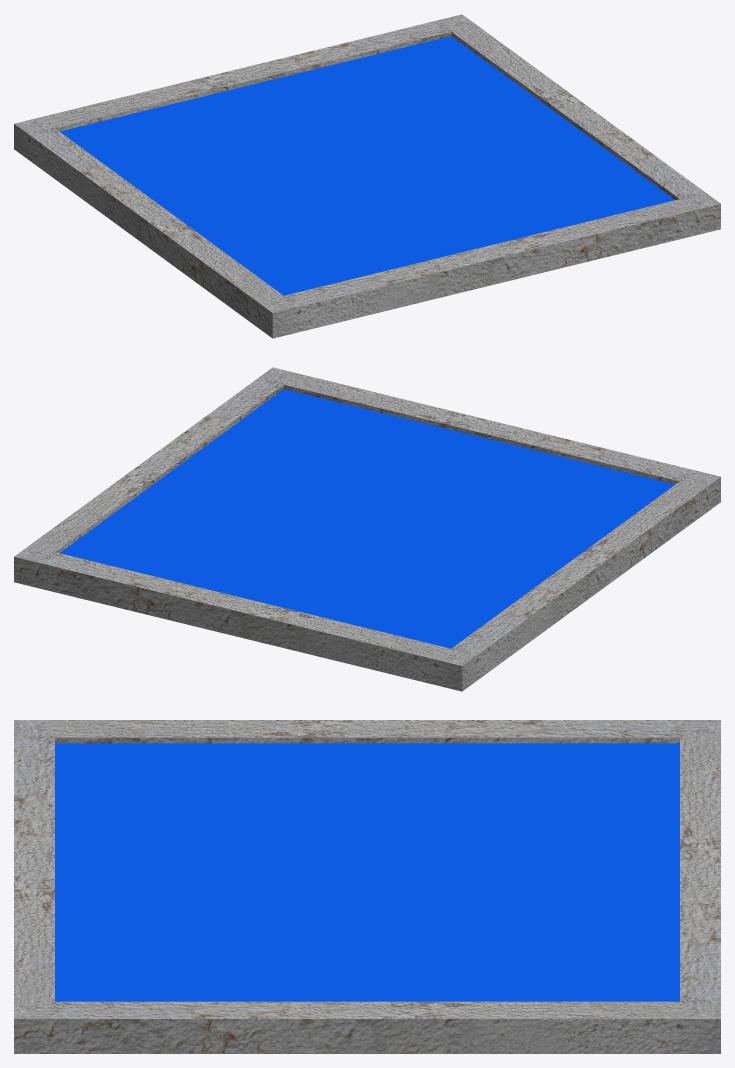
Rendered from Window.fbx.
The picture shows the model from 3 angles, top to bottom: view 1: azimuth 30°, elevation 25°; view 2: azimuth 150°, elevation 25°; view 3: azimuth 270°, elevation 25°; orthographic projection. The views are drawn at different scales.
Visible parts, largest first — view 1: Window; view 2: Window; view 3: Window.
Boxes of the visible parts, <box> form: Window: <box>14,14,720,338</box>; Window: <box>14,367,720,691</box>; Window: <box>14,720,720,1053</box>.
Bounding box in the file's own units: 226 × 12.32 × 226.
